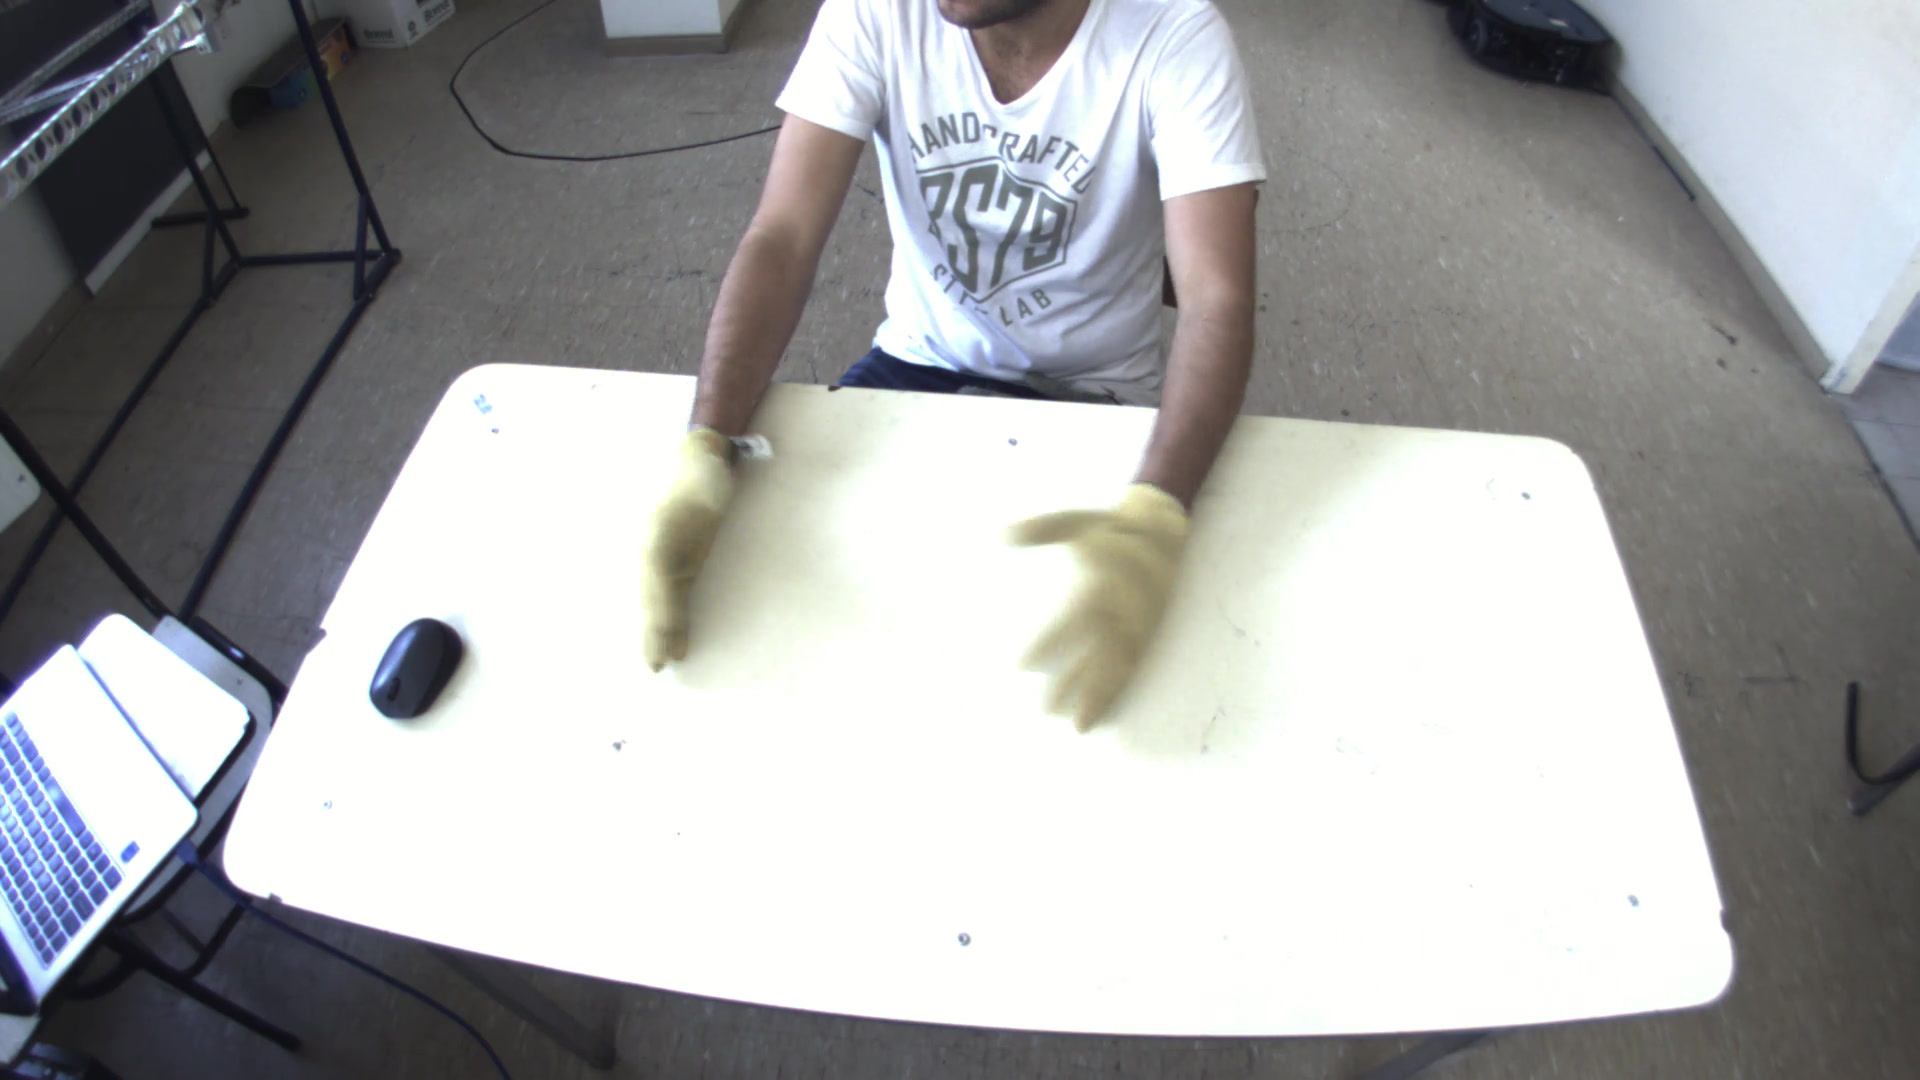hand: (1004, 462, 1207, 744), (622, 436, 745, 686)
